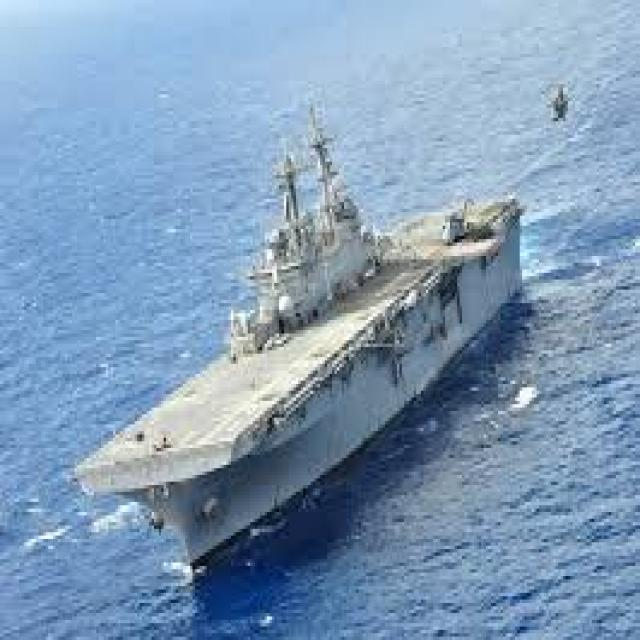navalvessels: (59, 83, 549, 568)
